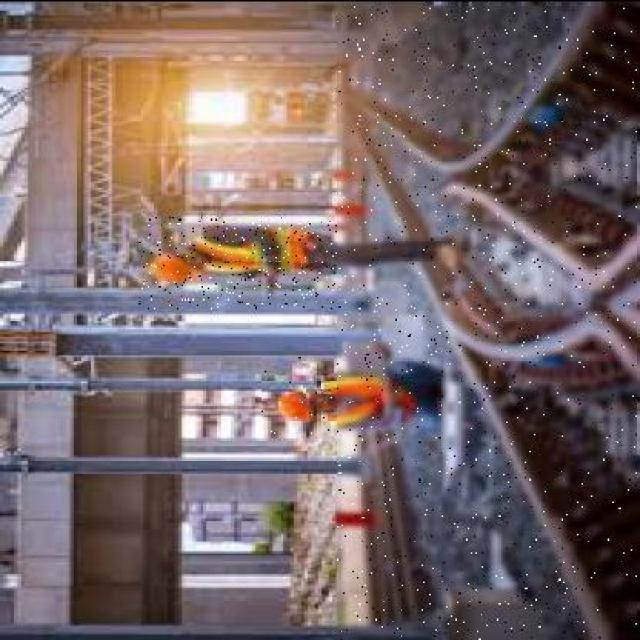rail: (338, 6, 638, 640)
